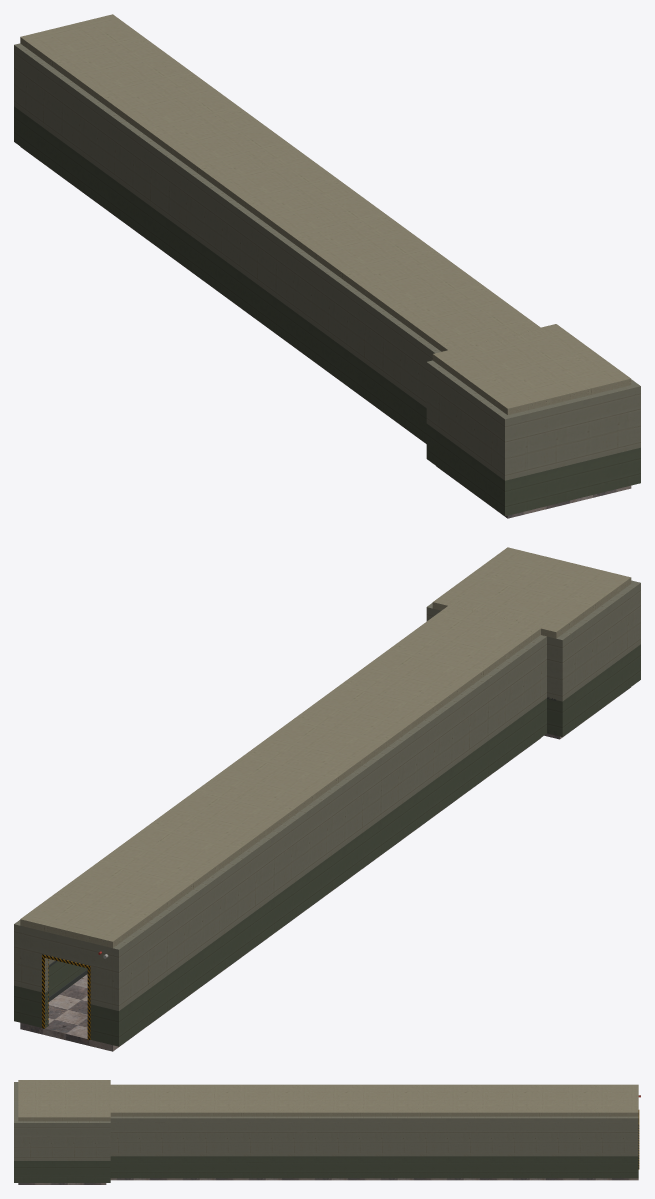
Rendered from hall.glb.
3 views of the same model, one above another, from view 1: azimuth 30°, elevation 25°; view 2: azimuth 150°, elevation 25°; view 3: azimuth 270°, elevation 25° (orthographic). The views are drawn at different scales.
Parts seen in each view (by area): view 1: HALL_static; view 2: HALL_static; view 3: HALL_static.
Boxes of the visible parts, x1,y1,x2,y2 form: HALL_static: (14, 14, 640, 518); HALL_static: (14, 547, 640, 1051); HALL_static: (14, 1080, 640, 1184).
Size of the model in its own units: 4.4 by 3.4 by 28.5.
19 materials, 11 textured.
